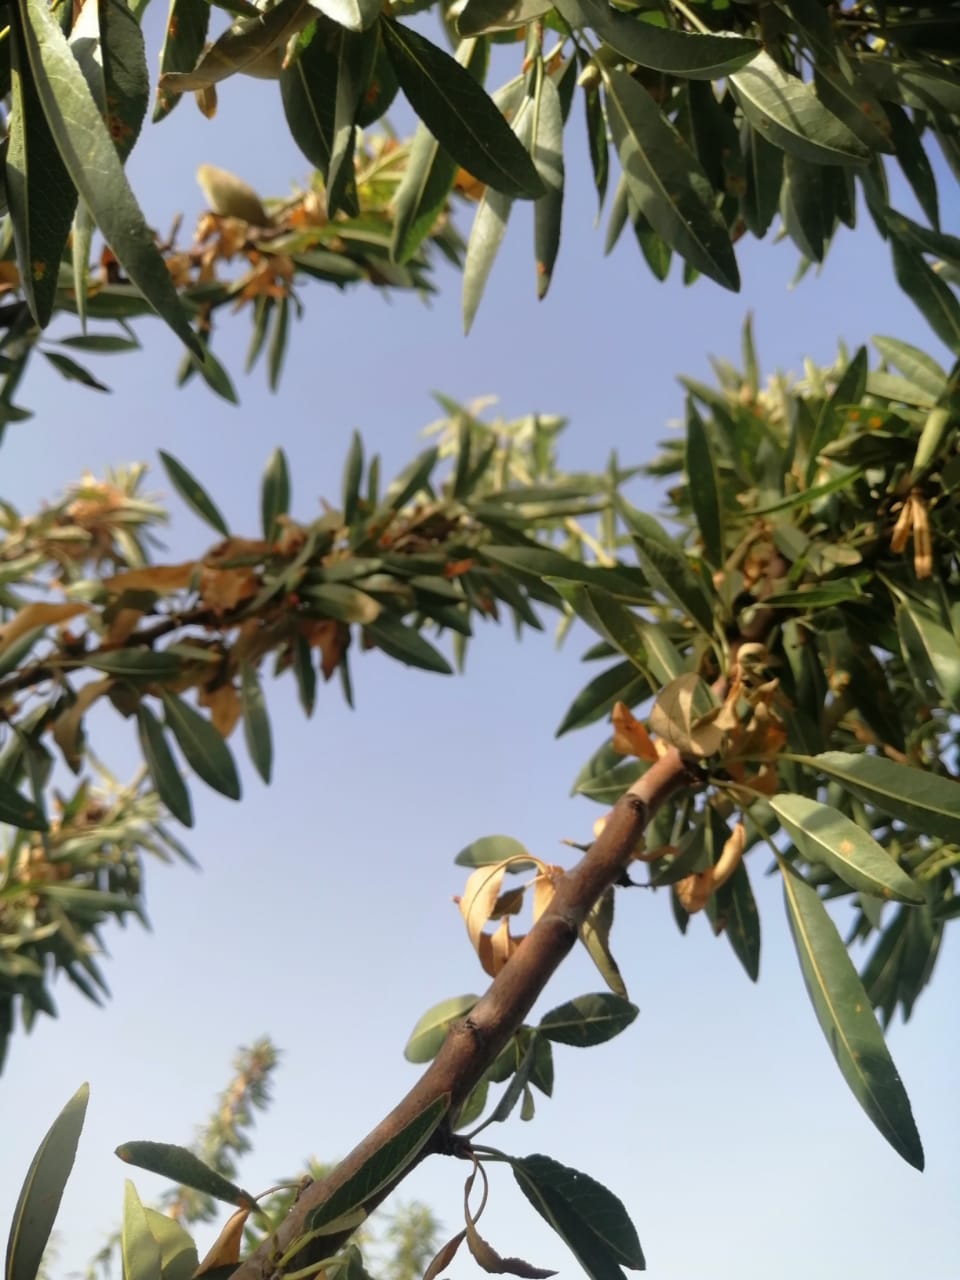scolytes: (1, 496, 478, 734), (610, 541, 830, 796)
